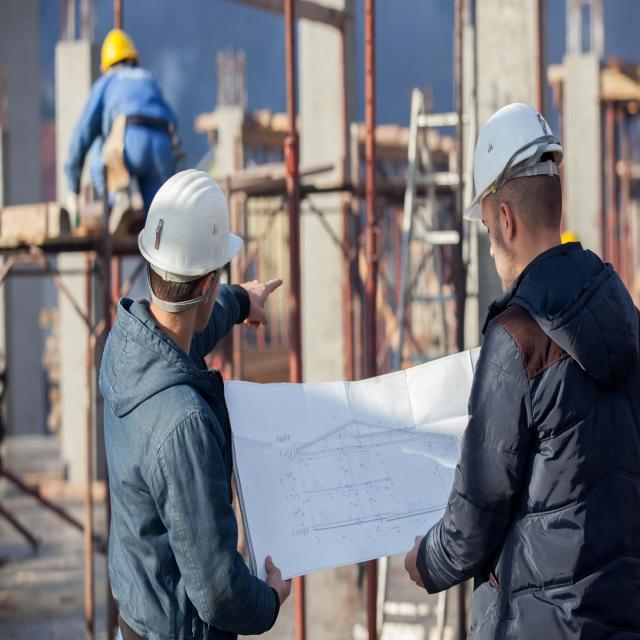Safety-Helmet: (135, 164, 245, 280), (462, 95, 566, 215), (97, 27, 141, 73)
